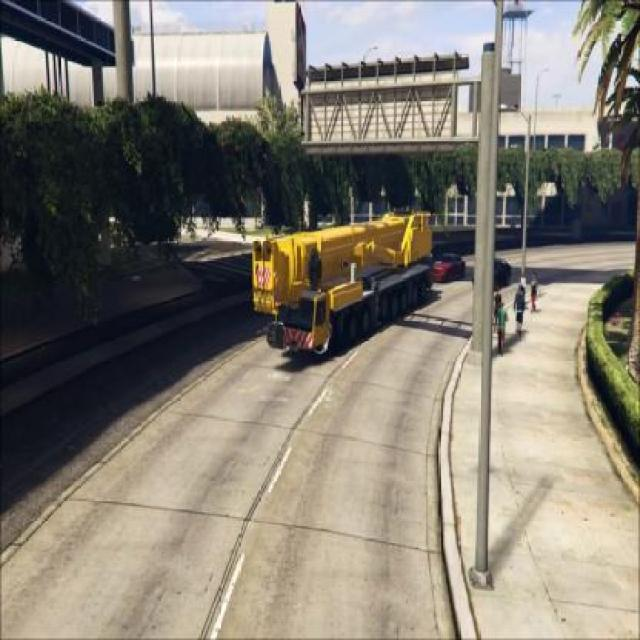Mobile Crane: (252, 210, 433, 352)
